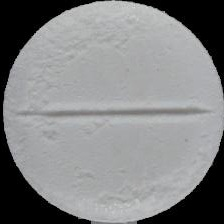76439-308: (0, 0, 224, 224)
